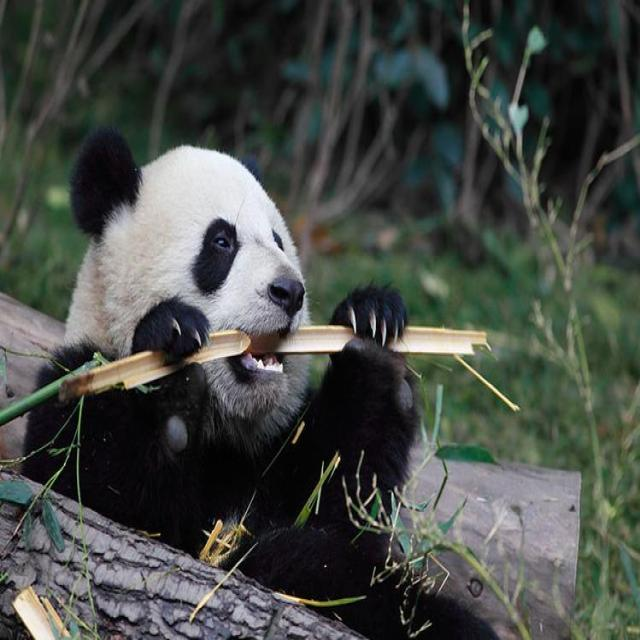panda: (16, 124, 507, 640)
